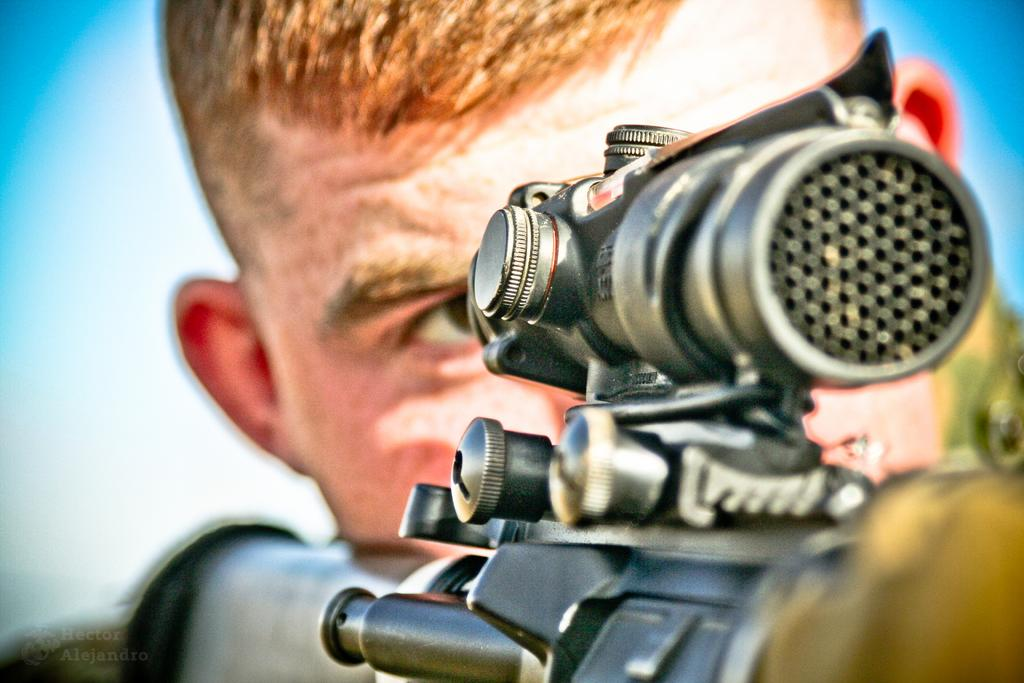Shotgun: (115, 41, 1022, 676)
